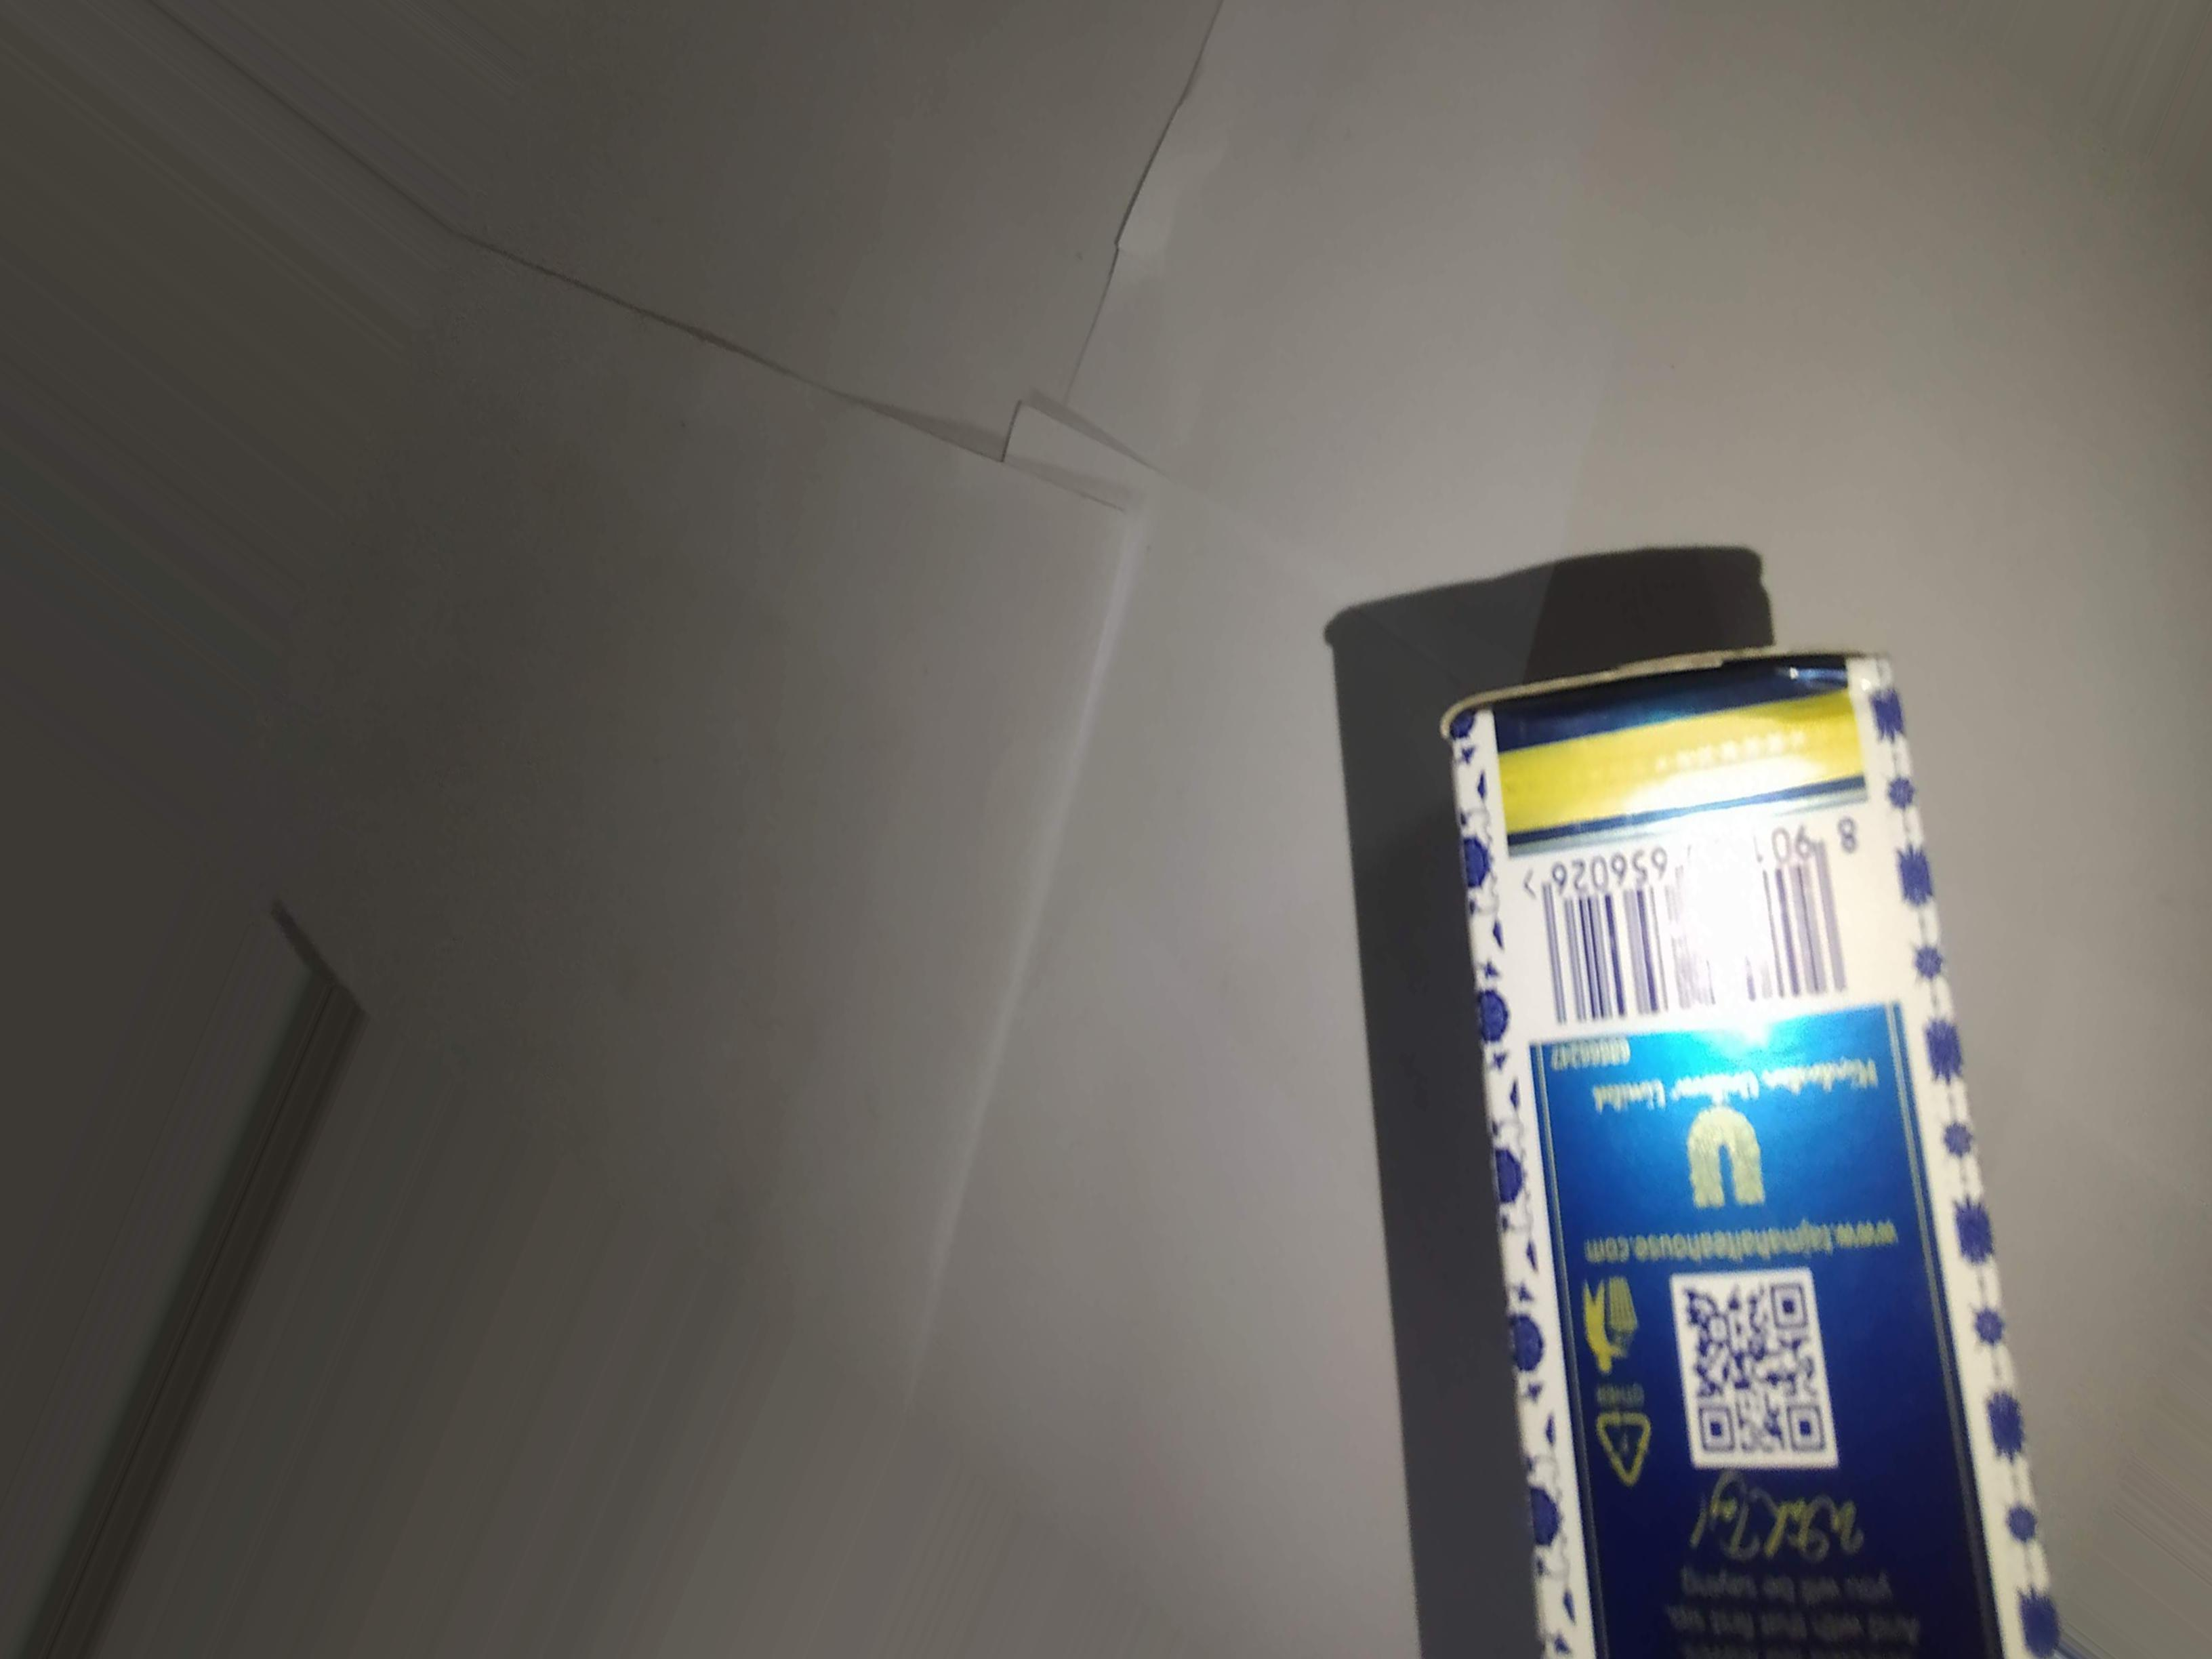Bar_code: (1500, 795, 1867, 1025)
Item: (1371, 606, 2168, 1659)
QR_code: (1656, 1276, 1867, 1478)
